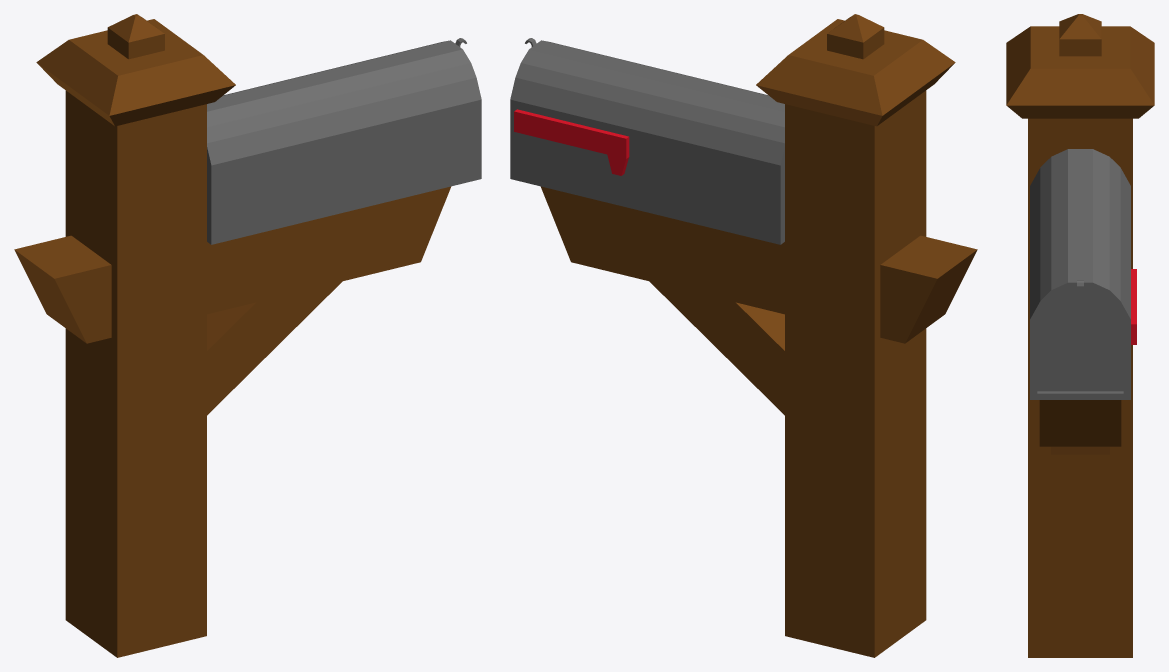
The model's file is mailbox_yellowish.gltf.
3 renders of one model, left to right at view 1: azimuth 30°, elevation 25°; view 2: azimuth 150°, elevation 25°; view 3: azimuth 270°, elevation 25°, orthographic.
Parts seen in each view (by area): view 1: Cube.263; view 2: Cube.263; view 3: Cube.263.
Boxes of the visible parts, x1,y1,x2,y2 form: Cube.263: [14, 14, 481, 657]; Cube.263: [510, 14, 977, 657]; Cube.263: [1006, 14, 1154, 657].
Size of the model in its own units: 171 by 233 by 50.37.
